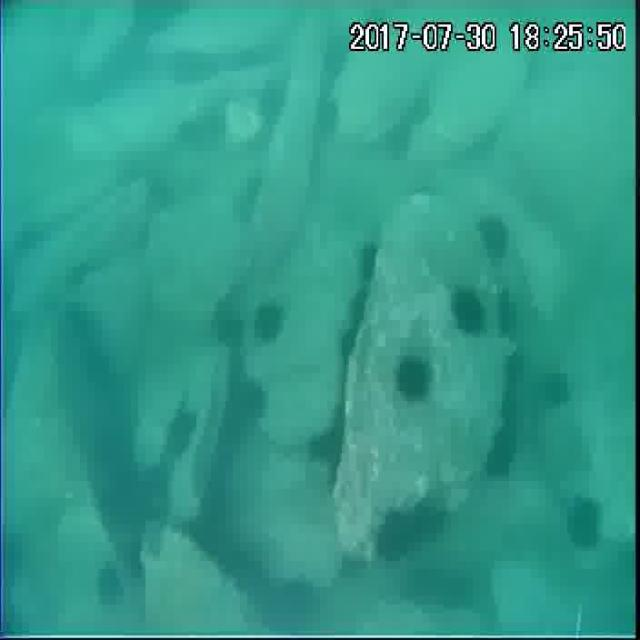echinus: (93, 459, 161, 532), (400, 556, 482, 614), (446, 279, 488, 342), (374, 504, 416, 564), (564, 494, 606, 554), (406, 498, 448, 548), (394, 354, 434, 406), (474, 211, 514, 263), (93, 560, 129, 610), (250, 296, 286, 346), (131, 0, 179, 37), (229, 379, 270, 422), (254, 80, 291, 127), (168, 403, 199, 458), (493, 288, 522, 344), (171, 49, 211, 87), (540, 369, 573, 413), (486, 431, 520, 473), (311, 98, 343, 142), (213, 311, 246, 351), (307, 426, 340, 466), (356, 240, 383, 280), (320, 44, 350, 80), (347, 289, 372, 328), (339, 320, 359, 364)
